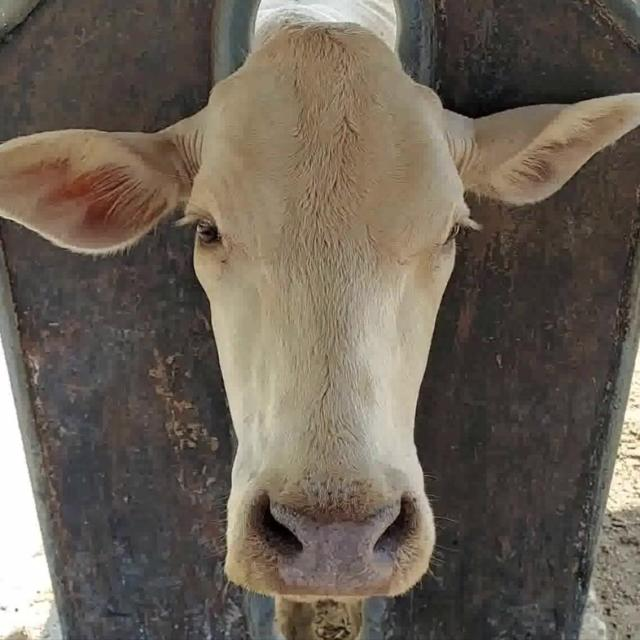cowFace: (191, 21, 464, 601)
